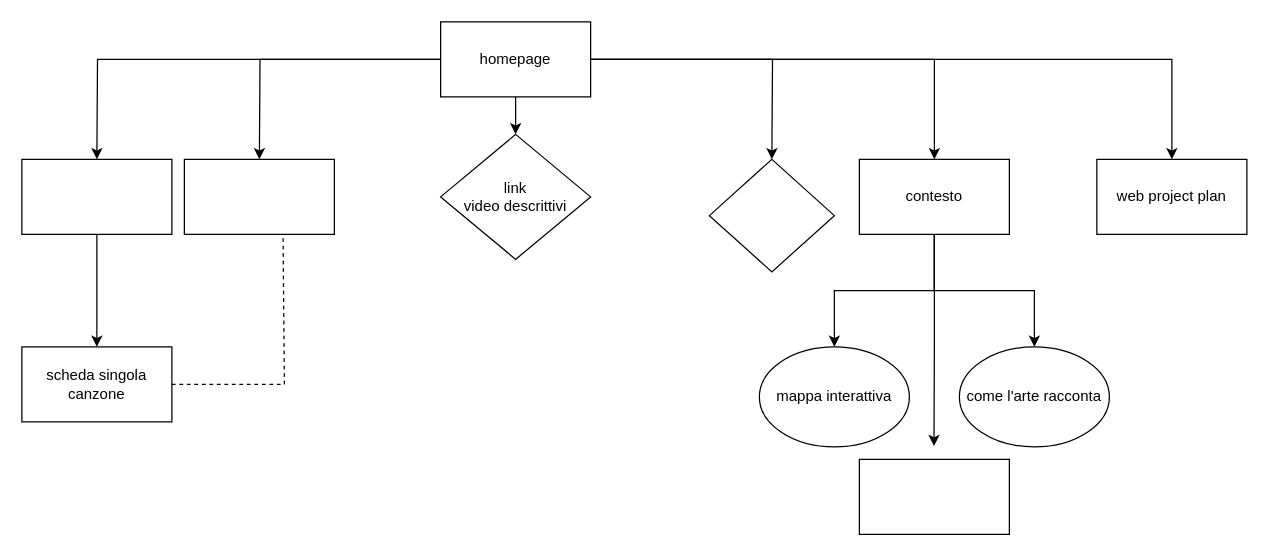
This 1269x556 diagram has some shape labels left out. Here are the shapes that lost their labels. From the top down, the box of each, then its label:
(21, 158, 172, 234): catalogo canzoni
(183, 158, 334, 234): schede personaggi
(708, 158, 834, 272): link al musical
(858, 458, 1009, 534): linea del tempo degli eventi
